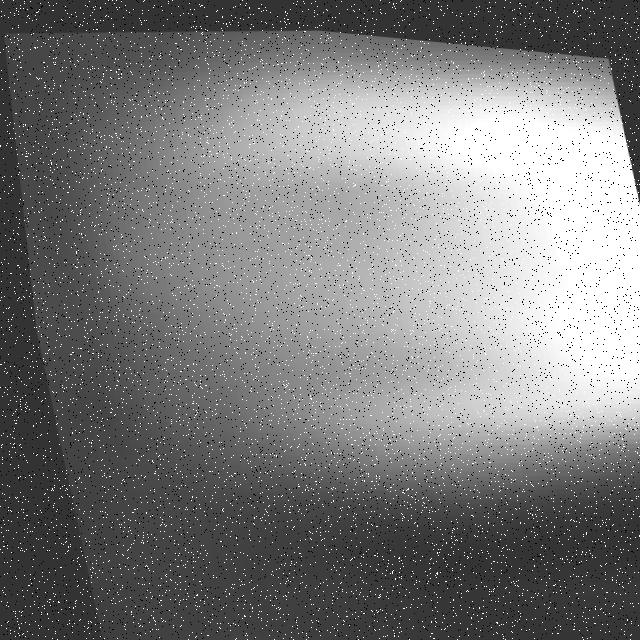person: (115, 18, 640, 551)
